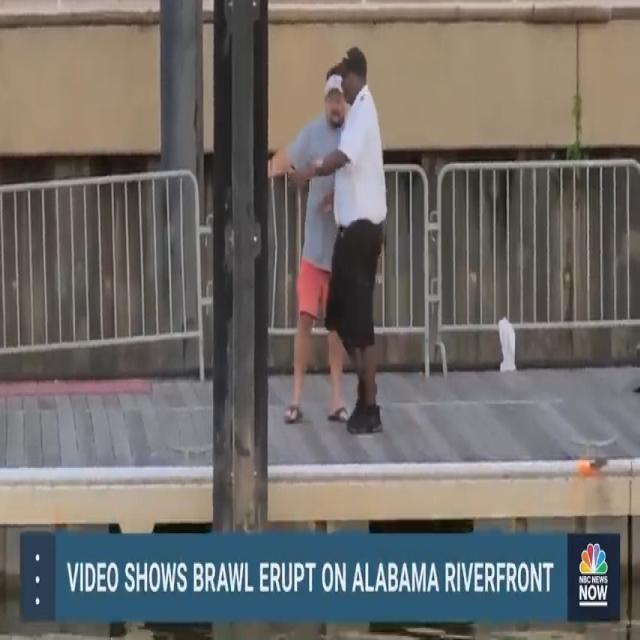non-fight: (265, 48, 410, 449)
